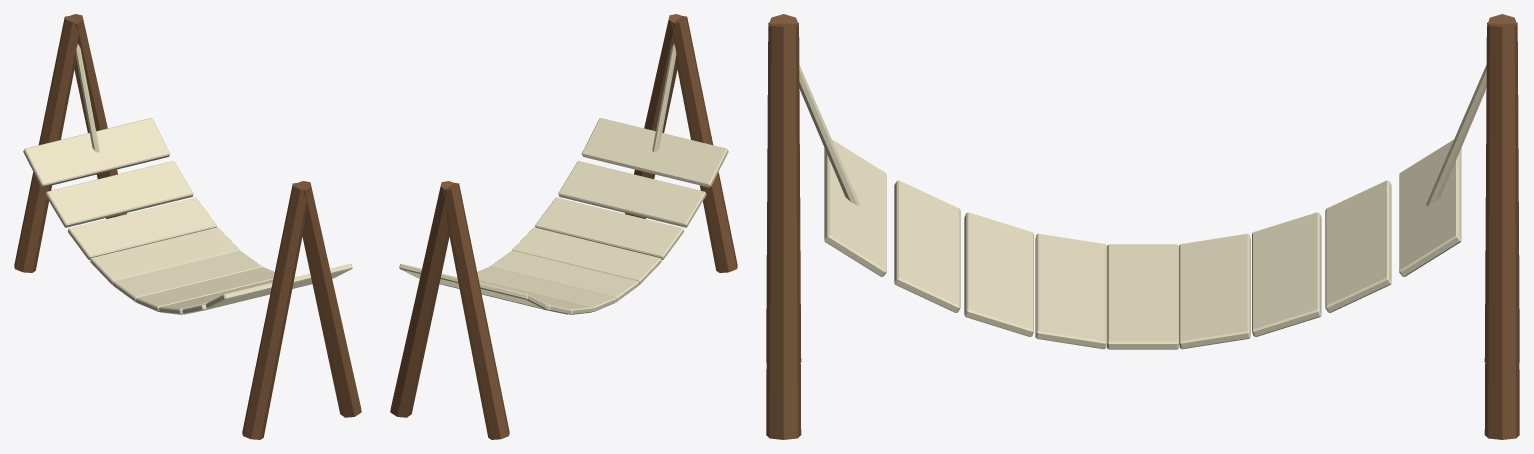
Rendered from CC_Hammock.fbx.
The picture shows the model from 3 angles, left to right: view 1: azimuth 30°, elevation 25°; view 2: azimuth 150°, elevation 25°; view 3: azimuth 270°, elevation 25°; orthographic projection. The views are drawn at different scales.
Parts seen in each view (by area): view 1: Hammock cloth.008, Hammock post, Hammock cloth.007, Hammock cloth.006, Hammock post.001, Hammock post.002, Hammock cloth.005, Hammock cloth.004, Hammock cloth.003, Hammock post.003, Hammock cloth, Hammock rope.001 (+1 smaller); view 2: Hammock cloth, Hammock post.002, Hammock cloth.001, Hammock cloth.002, Hammock post.003, Hammock post, Hammock cloth.003, Hammock cloth.004, Hammock cloth.005, Hammock post.001, Hammock cloth.008, Hammock rope (+1 smaller); view 3: Hammock post.001, Hammock post.003, Hammock cloth.003, Hammock cloth.004, Hammock cloth.005, Hammock cloth.002, Hammock cloth.006, Hammock cloth.001, Hammock cloth.007, Hammock cloth, Hammock cloth.008, Hammock rope (+1 smaller).
Boxes of the visible parts, x1=… form: Hammock cloth.008: x1=23, y1=118, x2=170, y2=187; Hammock post: x1=242, y1=183, x2=309, y2=439; Hammock cloth.007: x1=45, y1=161, x2=193, y2=227; Hammock cloth.006: x1=67, y1=197, x2=216, y2=259; Hammock post.001: x1=296, y1=181, x2=361, y2=417; Hammock post.002: x1=14, y1=16, x2=81, y2=272; Hammock cloth.005: x1=90, y1=227, x2=239, y2=284; Hammock cloth.004: x1=113, y1=250, x2=262, y2=302; Hammock cloth.003: x1=136, y1=267, x2=274, y2=311; Hammock post.003: x1=68, y1=14, x2=126, y2=218; Hammock cloth: x1=205, y1=263, x2=352, y2=308; Hammock rope.001: x1=75, y1=43, x2=99, y2=152; Hammock cloth: x1=581, y1=118, x2=728, y2=187; Hammock post.002: x1=442, y1=183, x2=509, y2=439; Hammock cloth.001: x1=558, y1=161, x2=706, y2=227; Hammock cloth.002: x1=535, y1=197, x2=684, y2=259; Hammock post.003: x1=390, y1=181, x2=455, y2=417; Hammock post: x1=670, y1=16, x2=737, y2=272; Hammock cloth.003: x1=512, y1=227, x2=661, y2=284; Hammock cloth.004: x1=489, y1=250, x2=638, y2=302; Hammock cloth.005: x1=477, y1=267, x2=615, y2=311; Hammock post.001: x1=625, y1=14, x2=683, y2=218; Hammock cloth.008: x1=399, y1=263, x2=546, y2=308; Hammock rope: x1=652, y1=43, x2=676, y2=152; Hammock post.001: x1=766, y1=22, x2=801, y2=439; Hammock post.003: x1=1484, y1=22, x2=1519, y2=439; Hammock cloth.003: x1=1035, y1=233, x2=1106, y2=349; Hammock cloth.004: x1=1107, y1=244, x2=1178, y2=349; Hammock cloth.005: x1=1179, y1=233, x2=1250, y2=349; Hammock cloth.002: x1=964, y1=212, x2=1033, y2=336; Hammock cloth.006: x1=1252, y1=212, x2=1321, y2=336; Hammock cloth.001: x1=894, y1=180, x2=960, y2=312; Hammock cloth.007: x1=1325, y1=180, x2=1391, y2=312; Hammock cloth: x1=824, y1=139, x2=886, y2=276; Hammock cloth.008: x1=1399, y1=139, x2=1461, y2=276; Hammock rope: x1=799, y1=65, x2=860, y2=205.
Size of the model in its own units: 1.3 by 2.34 by 4.19.
